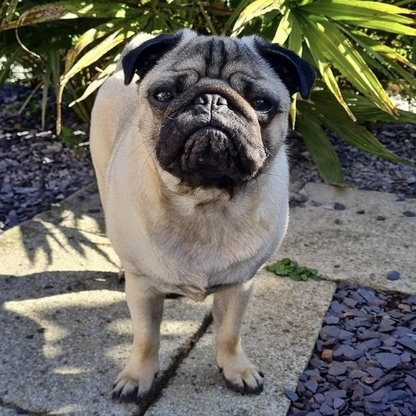Pug: (83, 24, 321, 406)
